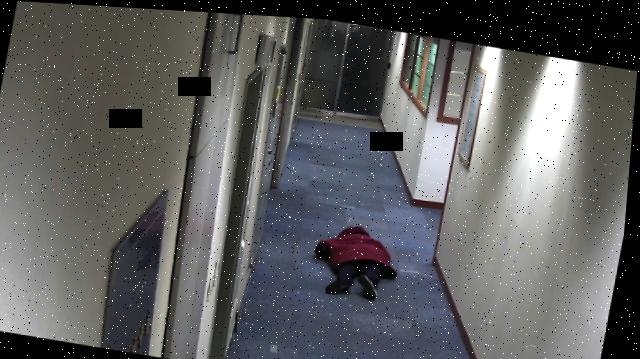fall: (306, 212, 417, 304)
